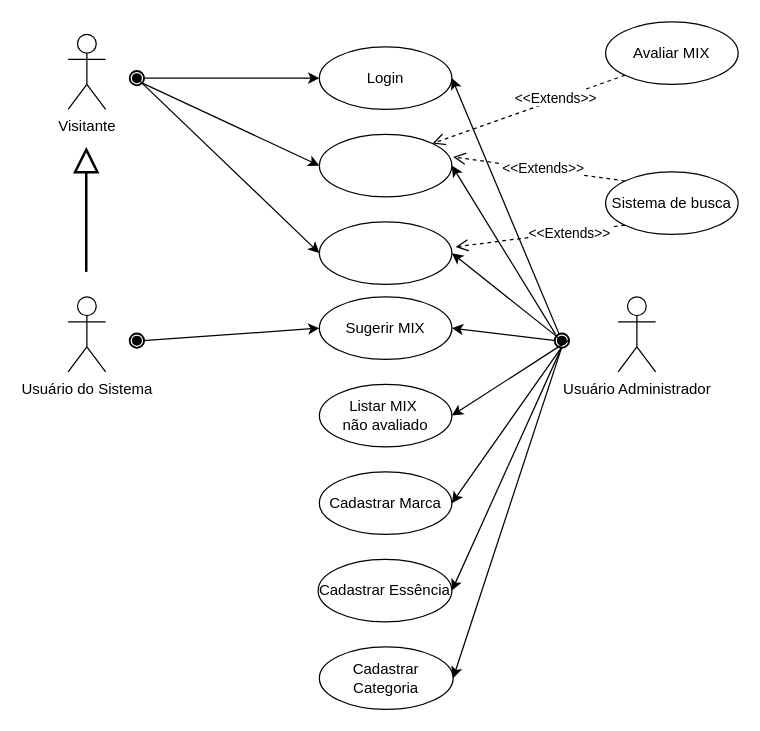
The diagram is 760 pixels wide and 731 high, and some of its shapes have lost their labels. The shapes that lost their labels are listed below. From the top down, each one's centre as x and y in pixels, then its label:
At point (385, 165): "Listar MIX".
At point (385, 252): "Listar Essência".
